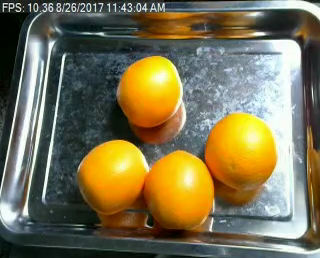Orange: (204, 111, 277, 191), (143, 150, 214, 230), (76, 139, 147, 214), (116, 55, 181, 127)
